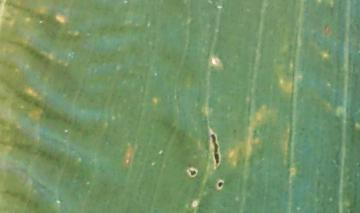tarspot: (206, 124, 223, 175), (182, 164, 203, 182), (215, 177, 227, 193)
